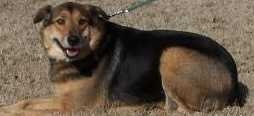dog: (22, 1, 242, 108)
